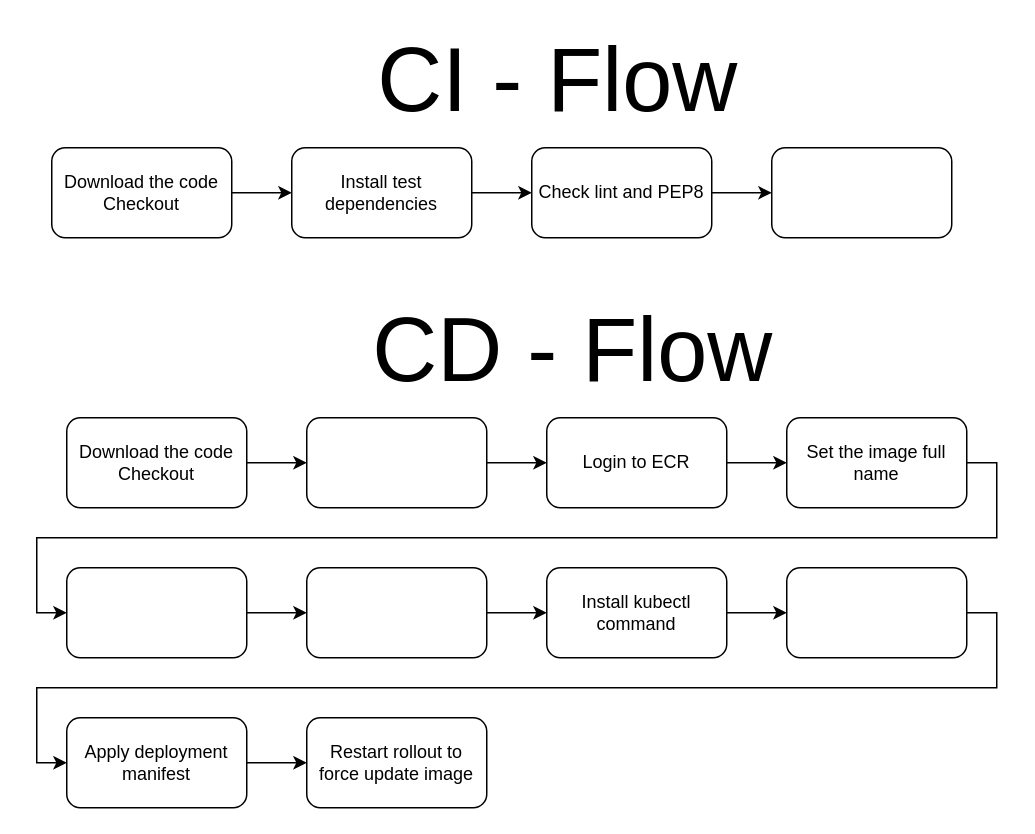
The diagram is 1035 pixels wide and 834 high, and some of its shapes have lost their labels. Each missing label, with the centre of its shape:
"Build and TAG image" goes at (x=156, y=612).
"Connect to AWS using GTA secrets" goes at (x=396, y=462).
"Push image to ECR" goes at (x=396, y=612).
"Run unit tests and checks coverage" goes at (x=861, y=192).
"Update kube config" goes at (x=876, y=612).
